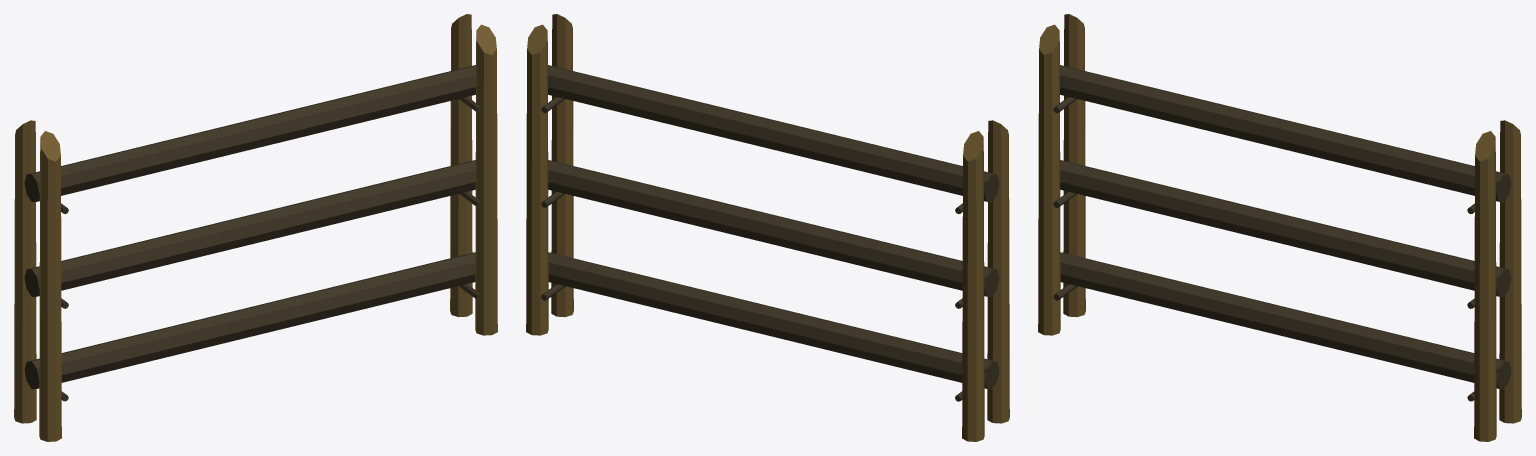
File: Valla.fbx
3 renders of one model, left to right at view 1: azimuth 30°, elevation 25°; view 2: azimuth 150°, elevation 25°; view 3: azimuth 330°, elevation 25°, orthographic.
Parts seen in each view (by area): view 1: valla; view 2: valla; view 3: valla.
Boxes of the visible parts, left/top/right/bottom form: valla: left=14, top=14, right=497, bottom=441; valla: left=526, top=14, right=1009, bottom=441; valla: left=1038, top=14, right=1521, bottom=441.
Bounding box in the file's own units: 419 × 265 × 58.56.
